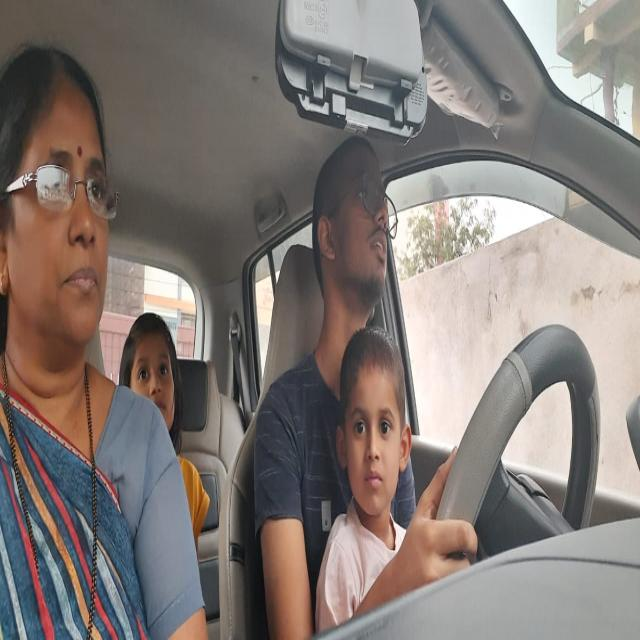child: (328, 327, 418, 526)
person: (0, 41, 124, 404), (312, 134, 406, 323), (119, 303, 189, 442)
